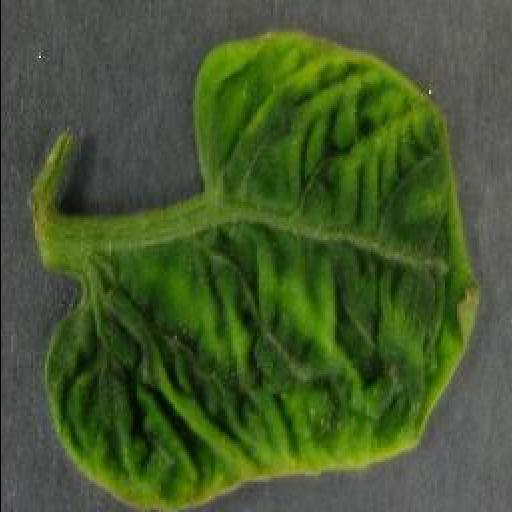disease_tomato: (38, 28, 482, 512)
